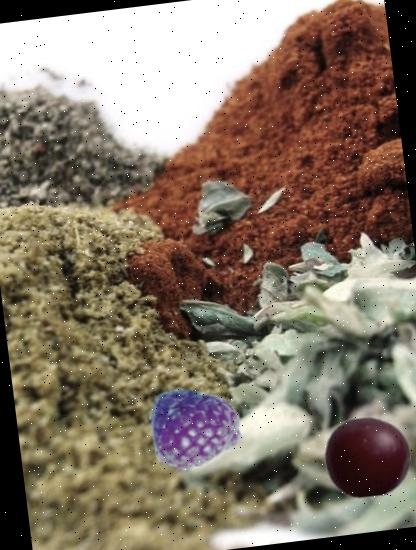Cherry: (319, 409, 416, 506)
Raspberry: (142, 380, 248, 486)
